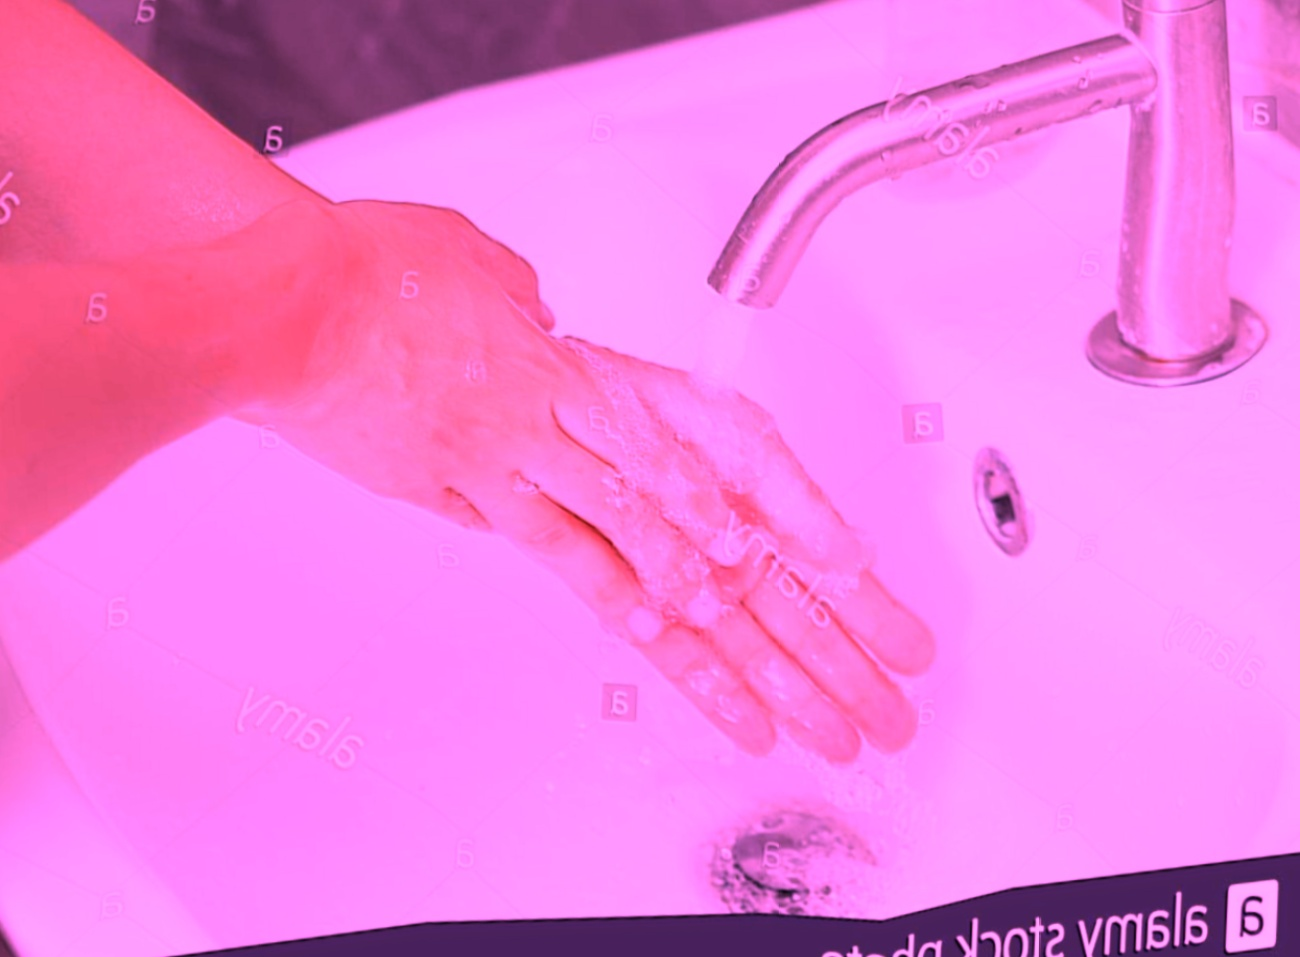washing hand: (362, 0, 1221, 808)
